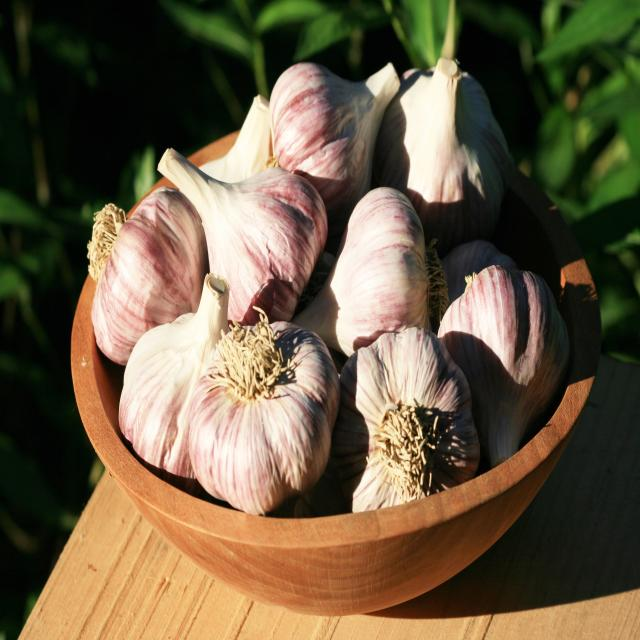garlic: (189, 309, 339, 514), (158, 148, 327, 324), (373, 57, 513, 256), (331, 327, 480, 512), (438, 265, 569, 467), (292, 187, 430, 356), (119, 273, 229, 478), (295, 187, 429, 354), (92, 186, 208, 365), (269, 62, 399, 221)
